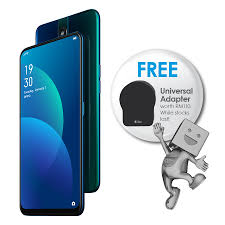oppo: (15, 31, 88, 219)
